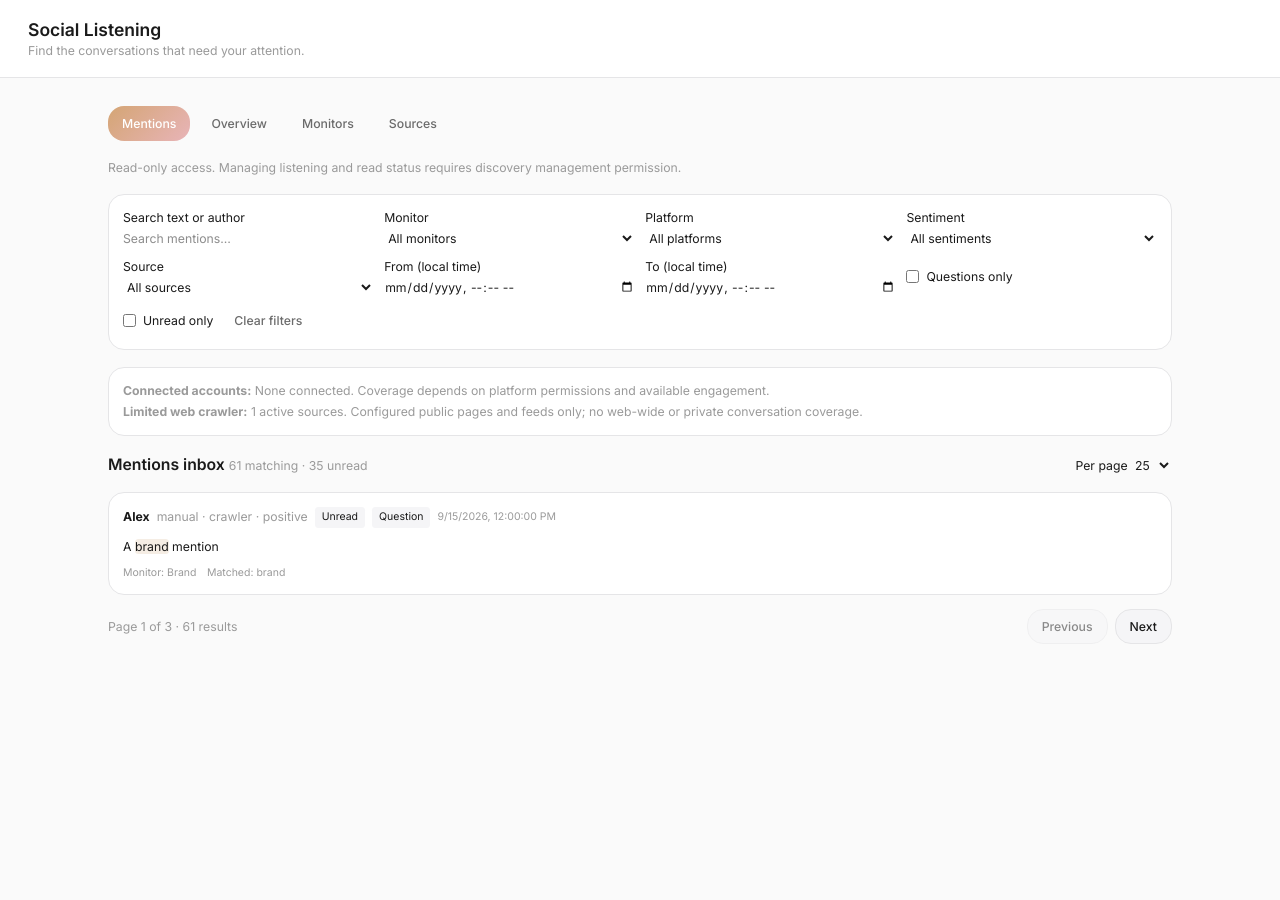
Scenario: listening workspace › hides mutations for viewers
The width and height of the screenshot is (1280, 900).
Check: the text "Alex" is shown, box top-left (123, 508), bottom-right (150, 526)
What coordinates should you click on to do the following:
click the button "Sources"
I would click on:
 (413, 124)
Its box is top-left (375, 106), bottom-right (451, 141).
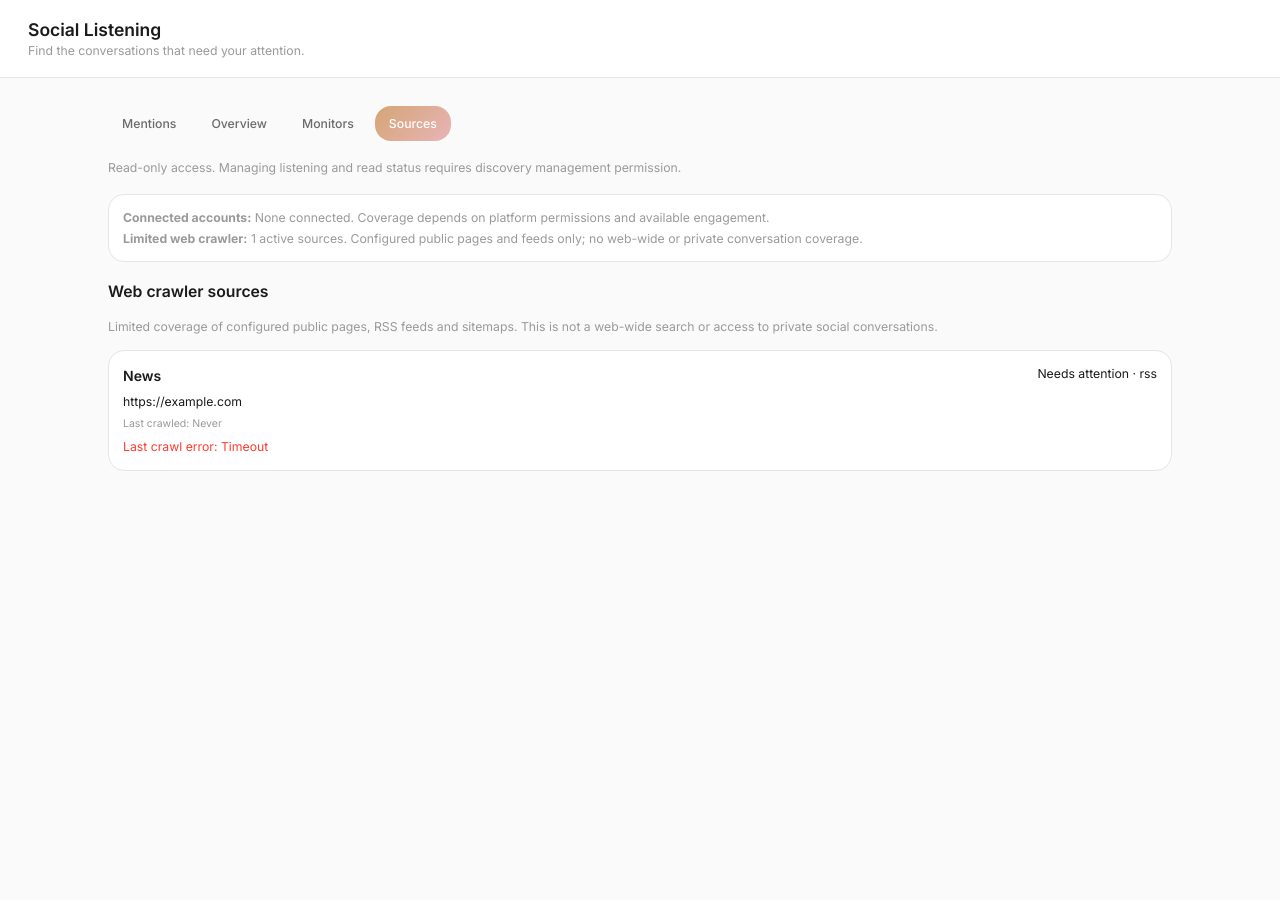
Check: the heading "News" is shown, box top-left (123, 364), bottom-right (161, 386)
